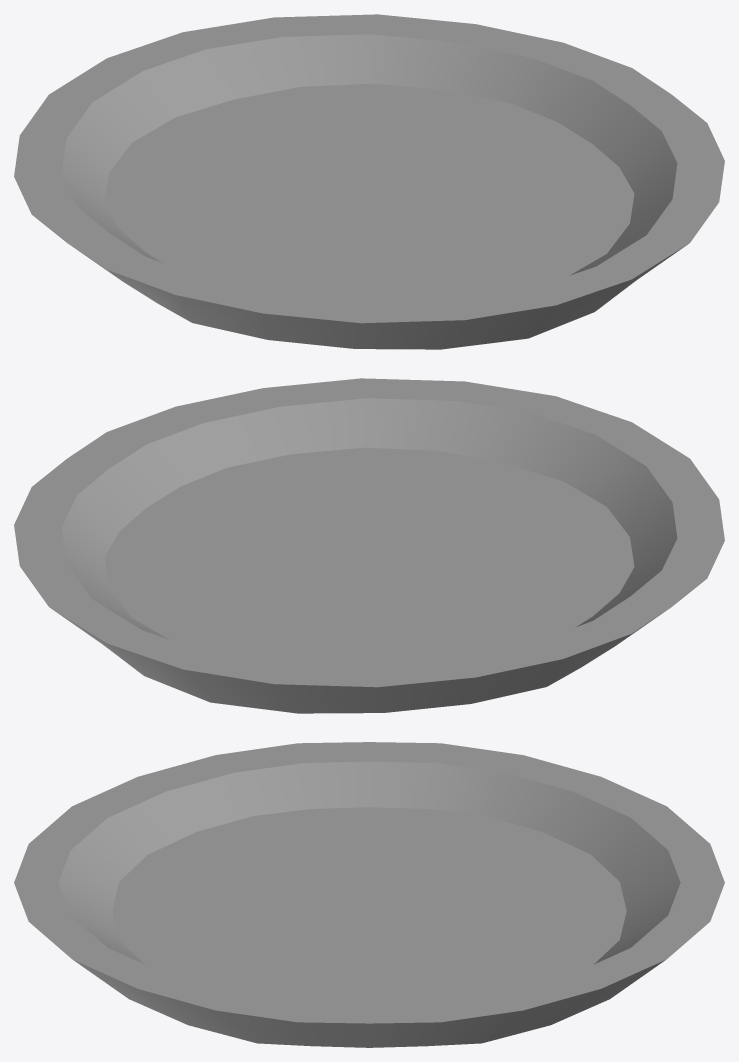
File: CookiePlate_02.fbx
3 renders of one model, top to bottom at view 1: azimuth 30°, elevation 25°; view 2: azimuth 150°, elevation 25°; view 3: azimuth 270°, elevation 25°, orthographic. The views are drawn at different scales.
Visible parts, largest first — view 1: CookiePlate_02; view 2: CookiePlate_02; view 3: CookiePlate_02.
Boxes of the visible parts, left/top/right/bottom form: CookiePlate_02: left=14, top=14, right=724, bottom=349; CookiePlate_02: left=14, top=378, right=724, bottom=713; CookiePlate_02: left=14, top=742, right=724, bottom=1047.
Bounding box in the file's own units: 0.3406 × 0.0287 × 0.3635.
